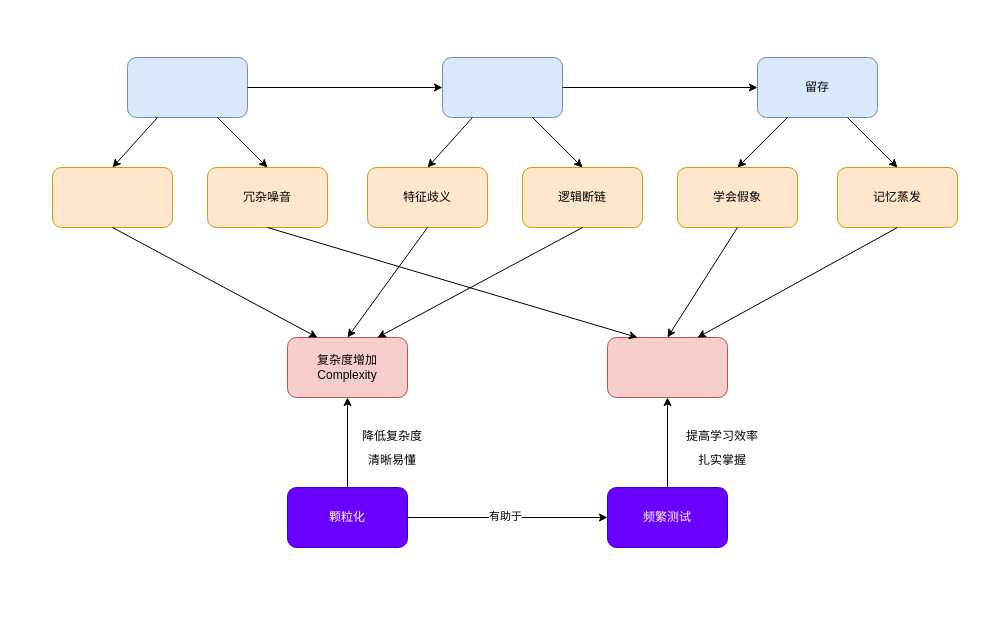
The diagram is 1004 pixels wide and 624 high, and some of its shapes have lost their labels. Here are the shapes that lost their labels. From the top down, the centre of each, then its label:
At (187,87): "解析".
At (502,87): "验证".
At (112,197): "抽象晦涩".
At (667,367): "效率降低 Efficiency".
